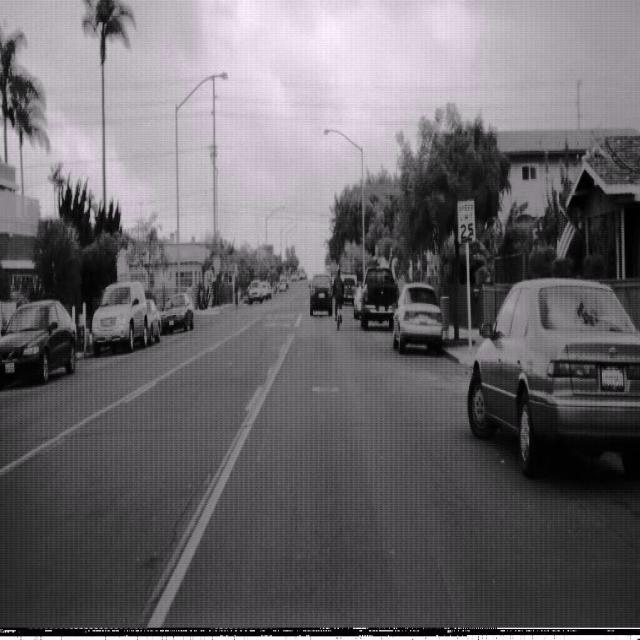speedLimit25: (456, 196, 477, 247)
